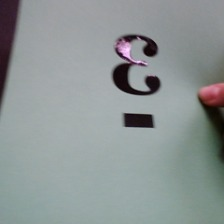green3: (105, 30, 166, 134)
